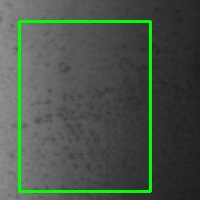pitted_surface: (19, 21, 150, 191)
